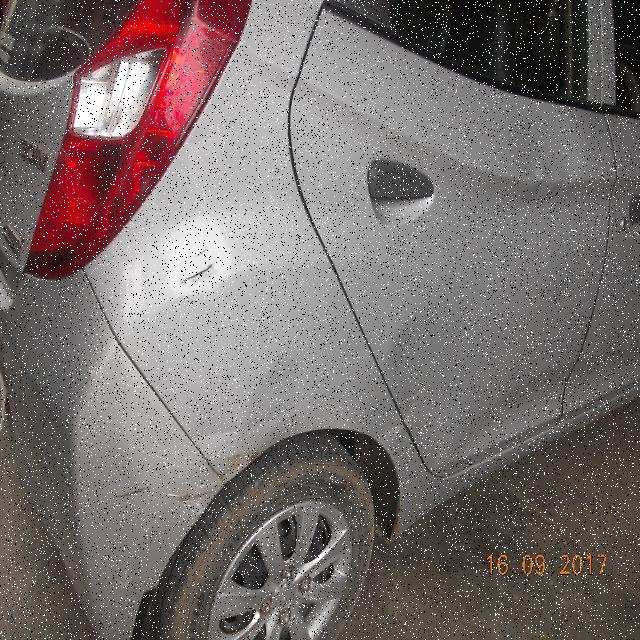doorouter-dent: (310, 63, 591, 458)
quaterpanel-dent: (124, 137, 323, 521)
rear-bumper-dent: (0, 390, 219, 638)
